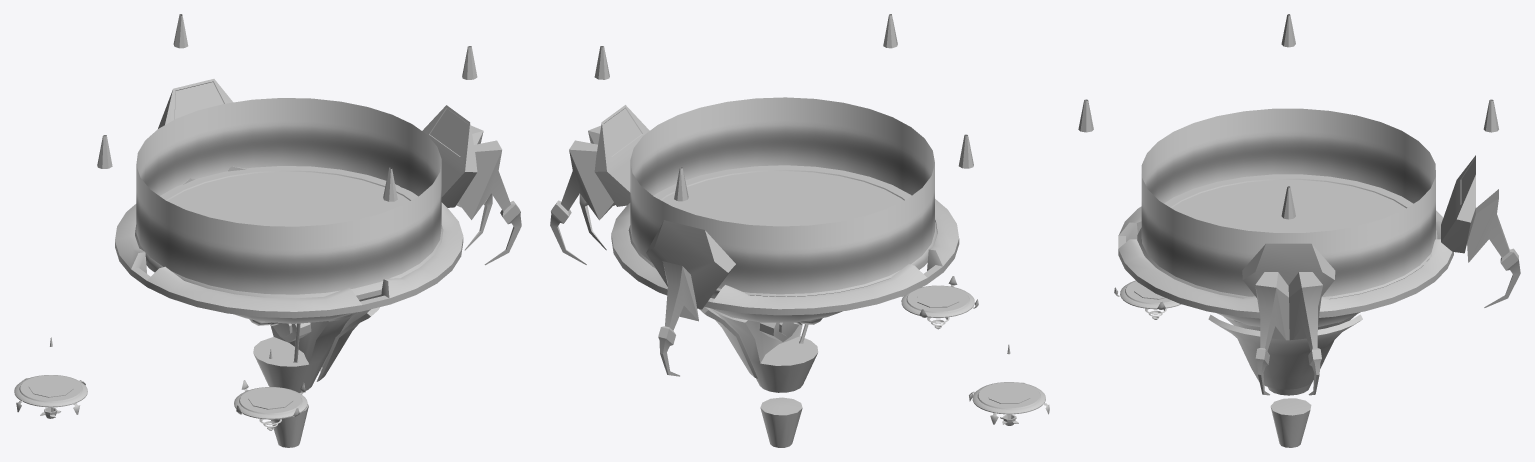
The model's file is Starting-Point.fbx.
3 renders of one model, left to right at view 1: azimuth 30°, elevation 25°; view 2: azimuth 150°, elevation 25°; view 3: azimuth 270°, elevation 25°, orthographic. The views are drawn at different scales.
Visible parts, largest first — view 1: Base.003, Base, Border, Middle Base, Shields.004, Shields.001, Object001, Object003, Shields.002, Floating Lamps, 3rd Lowest Part, Middle Extrude; view 2: Base.003, Base, Border, Shields.002, Middle Base, Shields.004, Shields.001, Object001, Object003, 3rd Lowest Part, Floating Lamps, Middle Extrude; view 3: Base.003, Base, Border, Shields.004, Shields.002, Middle Extrude, Shields.001, 3rd Lowest Part, Floating Lamps, Object003, Middle Base.
Boxes of the visible parts, x1,y1,x2,y2 form: Base.003: (136, 98, 441, 294); Base: (135, 166, 443, 323); Border: (115, 166, 463, 318); Middle Base: (249, 312, 357, 392); Shields.004: (456, 125, 521, 265); Shields.001: (422, 105, 477, 207); Object001: (14, 337, 87, 418); Object003: (234, 349, 307, 430); Shields.002: (158, 79, 233, 128); Floating Lamps: (97, 14, 477, 201); 3rd Lowest Part: (271, 404, 308, 447); Middle Extrude: (316, 307, 379, 381); Base.003: (630, 97, 934, 294); Base: (628, 165, 937, 322); Border: (611, 199, 959, 315); Shields.002: (646, 220, 735, 376); Middle Base: (710, 308, 822, 392); Shields.004: (550, 125, 615, 264); Shields.001: (594, 105, 649, 206); Object001: (969, 344, 1049, 425); Object003: (901, 276, 978, 329); 3rd Lowest Part: (760, 397, 802, 447); Floating Lamps: (594, 14, 973, 201); Middle Extrude: (699, 306, 757, 378); Base.003: (1141, 108, 1435, 296); Base: (1137, 174, 1437, 326); Border: (1118, 206, 1453, 318); Shields.004: (1255, 272, 1322, 395); Shields.002: (1441, 155, 1520, 307); Middle Extrude: (1208, 314, 1362, 389); Shields.001: (1242, 243, 1335, 298); 3rd Lowest Part: (1270, 398, 1311, 447); Floating Lamps: (1078, 14, 1498, 219); Object003: (1114, 280, 1181, 319); Middle Base: (1223, 314, 1356, 395).
Bounding box in the file's own units: 1458 × 1009 × 1184.
